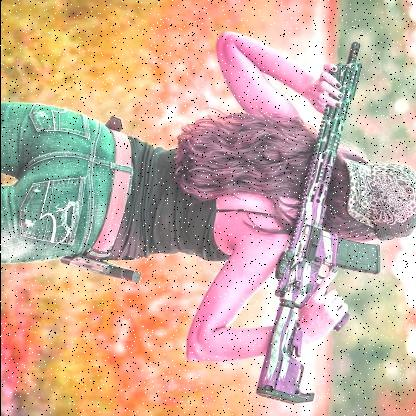rifle: (238, 43, 404, 408), (57, 252, 145, 287)
